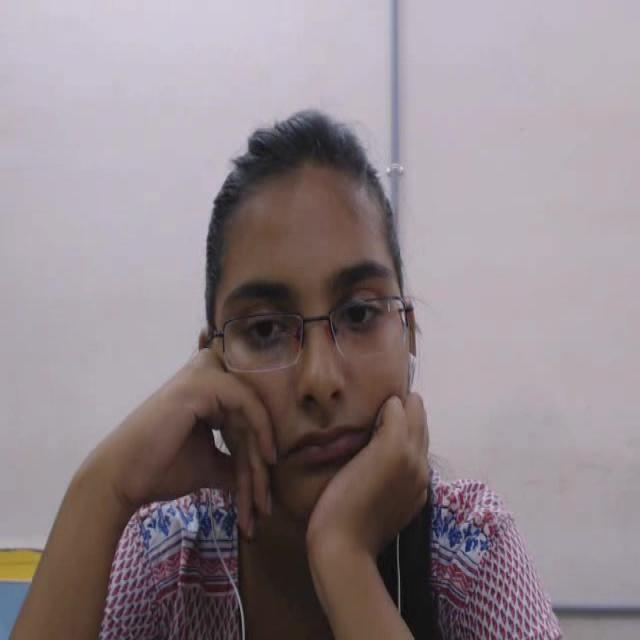Bored: (199, 112, 437, 523)
